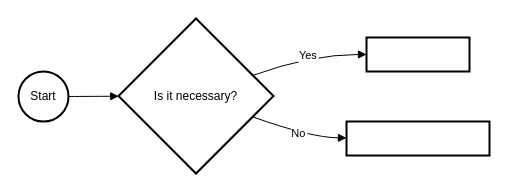
This 507x191 diagram has some shape labels left out. The shapes that lost their labels are listed below. From the top down, each one's centre as x and y in pixels, then its label:
At pixel 417 54: "Do the thing".
At pixel 417 138: "Don't do the thing".
